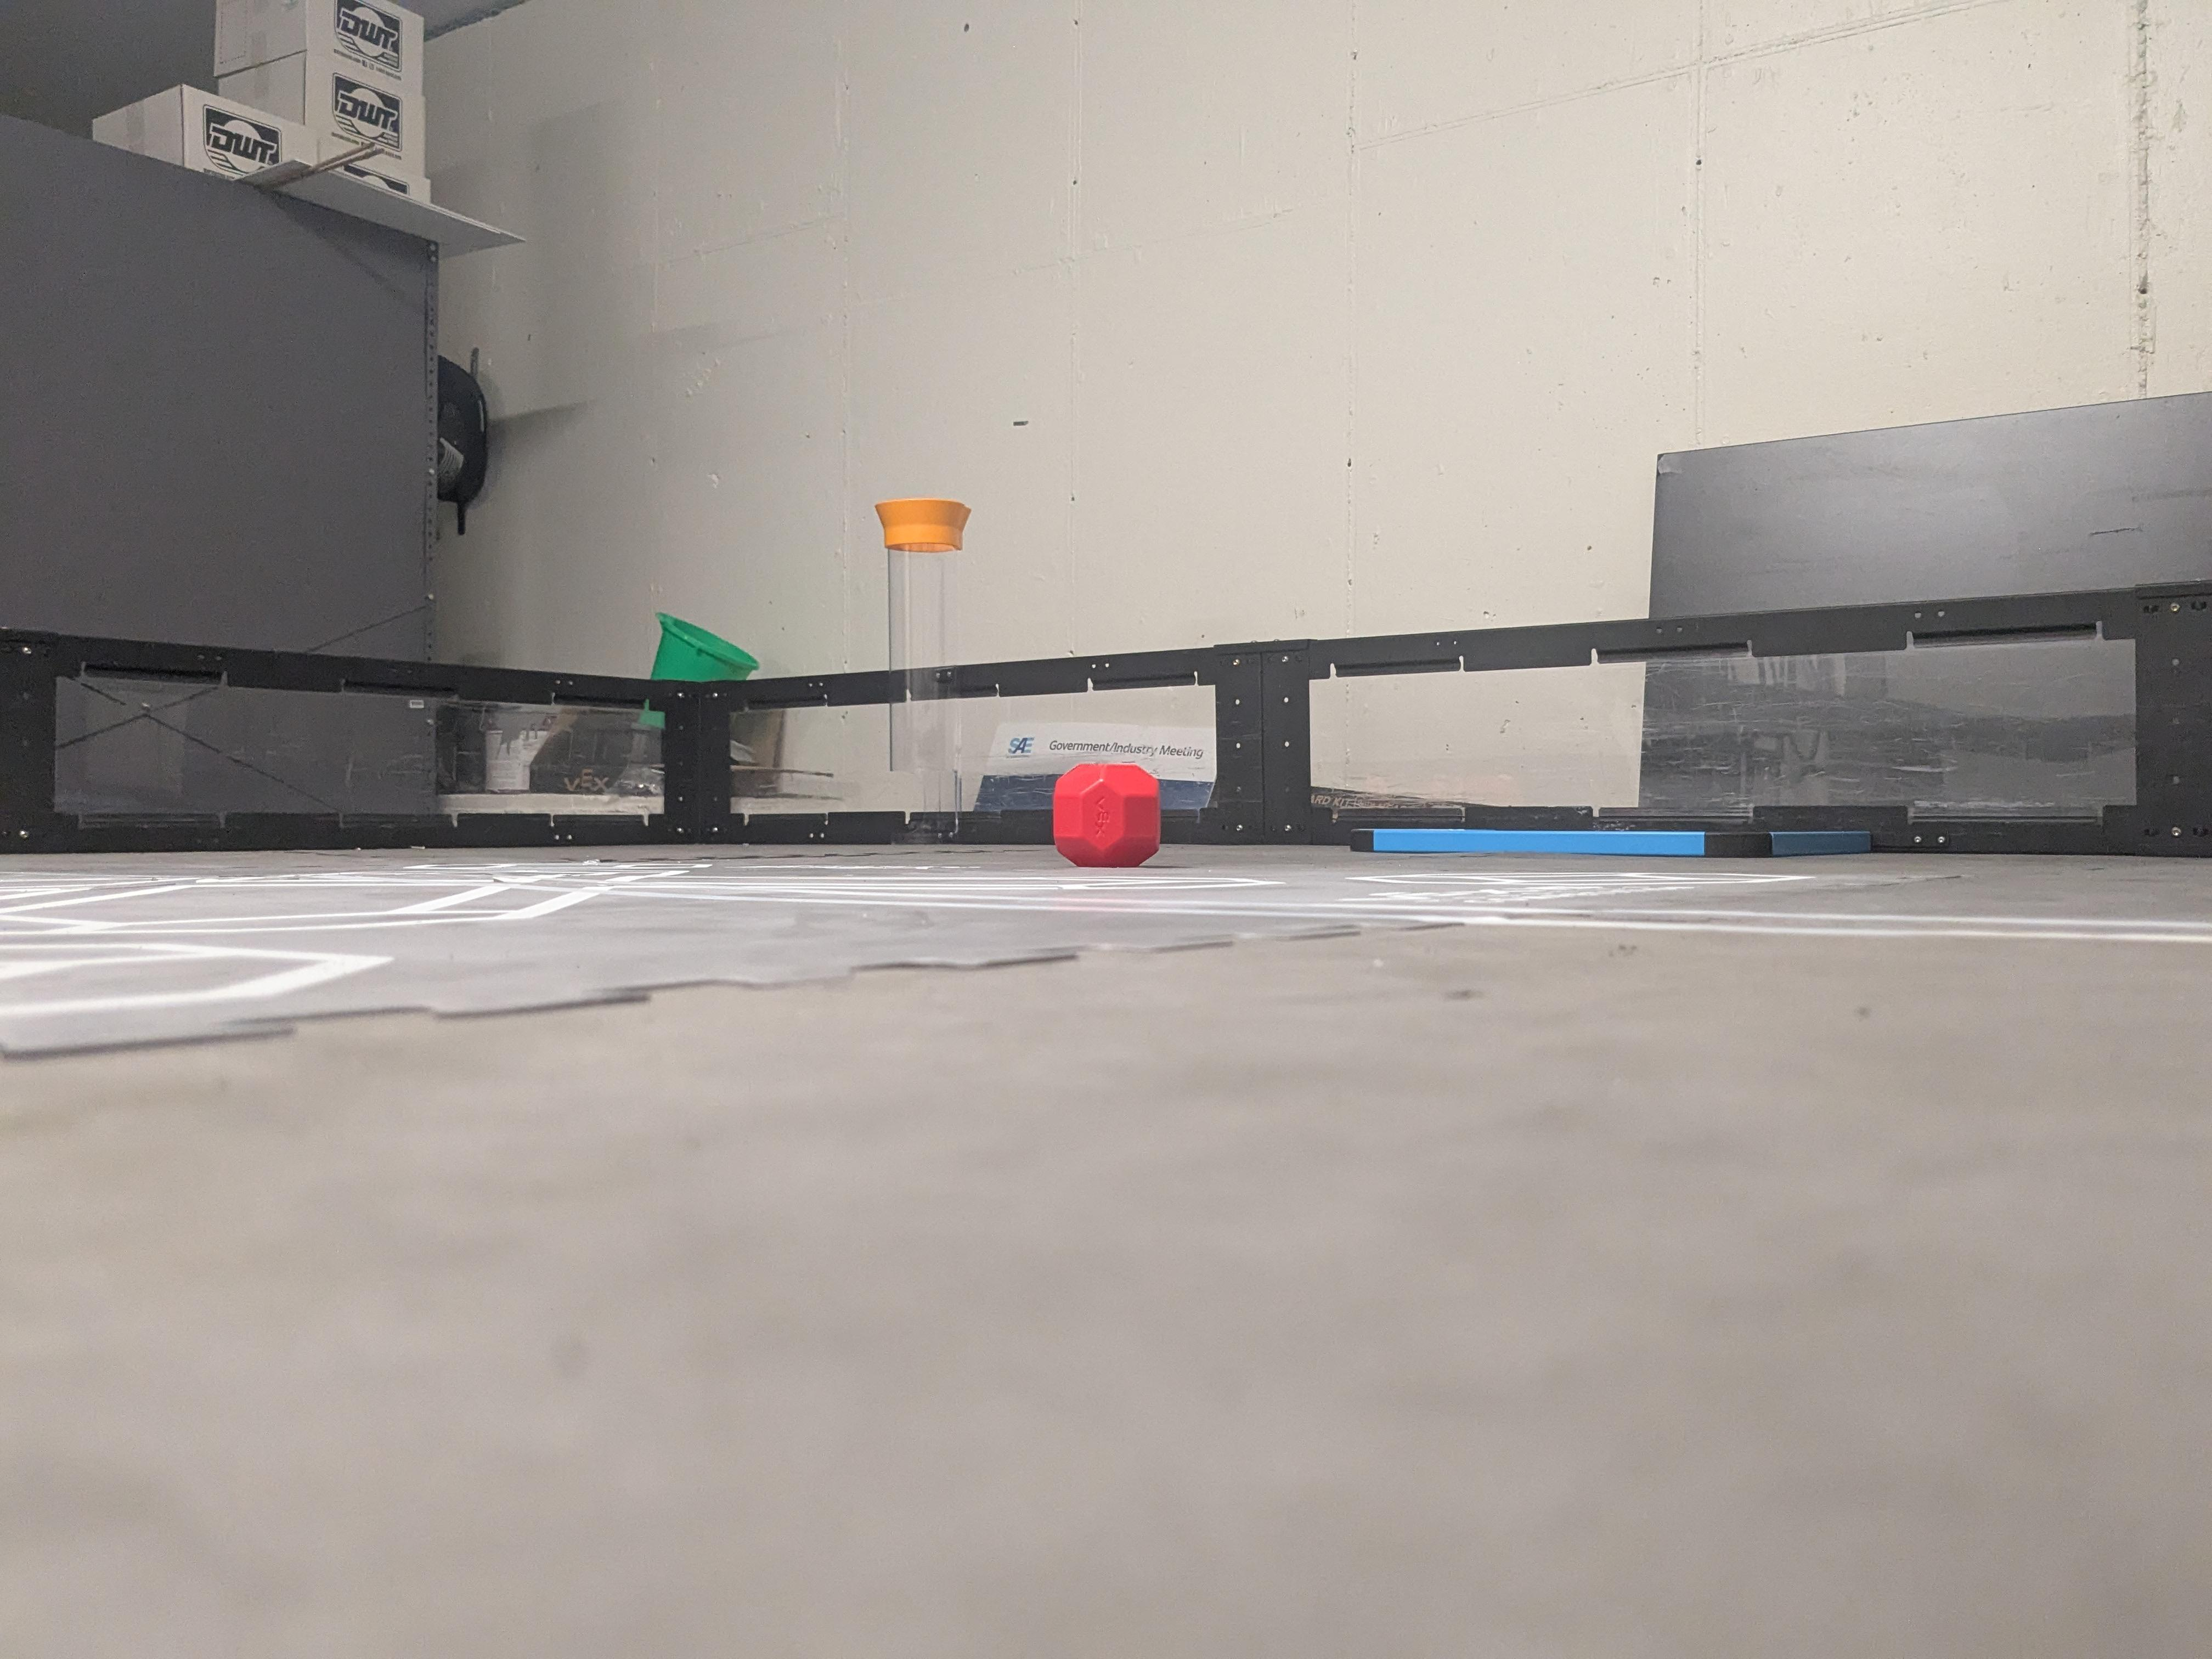Vex-Pieces-RED: (1052, 763, 1160, 866)
